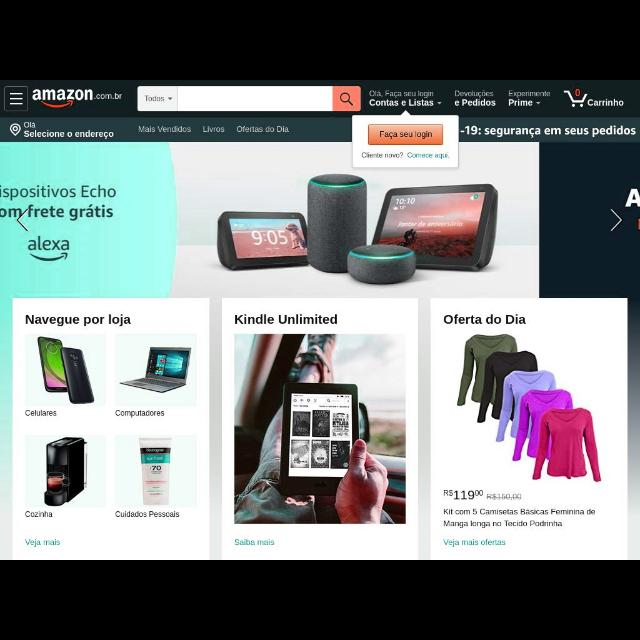backgroundimage: (1, 142, 640, 558)
button: (332, 88, 362, 110), (6, 86, 28, 112)
icon: (564, 89, 588, 108), (17, 208, 29, 232), (610, 209, 622, 231), (8, 92, 24, 106), (340, 92, 352, 106), (9, 124, 21, 136), (438, 100, 442, 106), (536, 100, 540, 106), (168, 98, 172, 100)
image: (236, 334, 406, 524), (458, 333, 602, 482), (24, 434, 106, 508), (26, 334, 106, 408), (116, 334, 196, 408), (116, 436, 196, 508), (32, 88, 122, 109), (28, 235, 70, 262)
input: (178, 88, 332, 110)
multitab: (124, 117, 302, 141)
spinner: (369, 88, 443, 110), (138, 86, 178, 110), (507, 99, 541, 108)
text: (444, 508, 596, 528), (460, 125, 636, 138), (2, 184, 118, 202), (1, 204, 114, 222), (26, 315, 132, 327), (369, 90, 435, 108), (235, 314, 338, 324), (24, 130, 114, 140), (444, 315, 526, 325), (443, 490, 522, 500), (455, 89, 495, 107), (362, 152, 450, 160), (444, 538, 506, 548), (116, 510, 180, 518), (138, 125, 192, 133), (237, 126, 289, 134), (115, 410, 165, 418), (24, 539, 60, 547), (26, 409, 58, 417), (508, 90, 550, 96), (234, 540, 274, 546), (590, 100, 624, 106), (144, 95, 166, 104), (510, 100, 532, 108), (26, 512, 54, 518), (203, 126, 225, 132), (24, 122, 36, 128)
textbutton: (368, 125, 444, 145)
toolbar: (1, 82, 639, 116)
